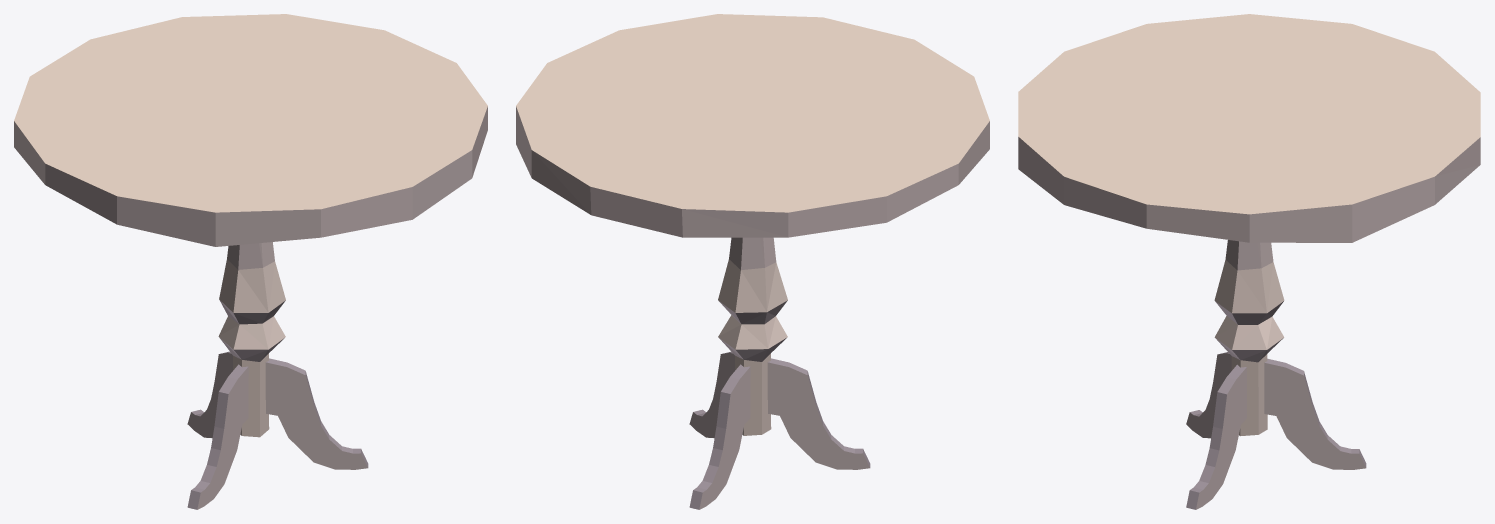
The model's file is table.fbx.
The picture shows the model from 3 angles, left to right: view 1: azimuth 30°, elevation 25°; view 2: azimuth 150°, elevation 25°; view 3: azimuth 270°, elevation 25°; orthographic projection.
Parts seen in each view (by area): view 1: table; view 2: table; view 3: table.
Part boxes in pixels (x1,y1,x2,y2): table: [14, 14, 487, 509]; table: [516, 14, 989, 509]; table: [1018, 14, 1480, 509].
Bounding box in the file's own units: 79.95 × 65.75 × 77.95.
